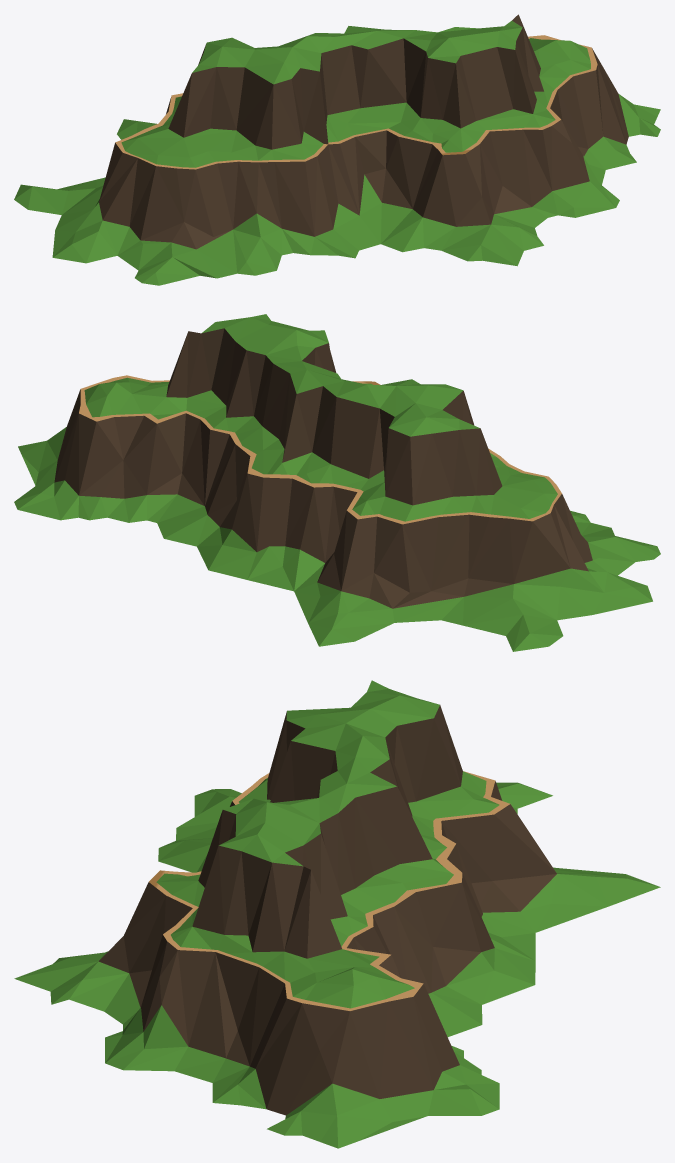
Rendered from mountains.glb.
The picture shows the model from 3 angles, top to bottom: view 1: azimuth 30°, elevation 25°; view 2: azimuth 150°, elevation 25°; view 3: azimuth 270°, elevation 25°; orthographic projection. The views are drawn at different scales.
Parts seen in each view (by area): view 1: mountains; view 2: mountains; view 3: mountains.
Boxes of the visible parts, x1=… form: mountains: x1=14, y1=14, x2=660, y2=285; mountains: x1=14, y1=314, x2=660, y2=651; mountains: x1=14, y1=680, x2=660, y2=1148.
Size of the model in its own units: 90 by 21.23 by 63.85.
1 material, 1 textured.
